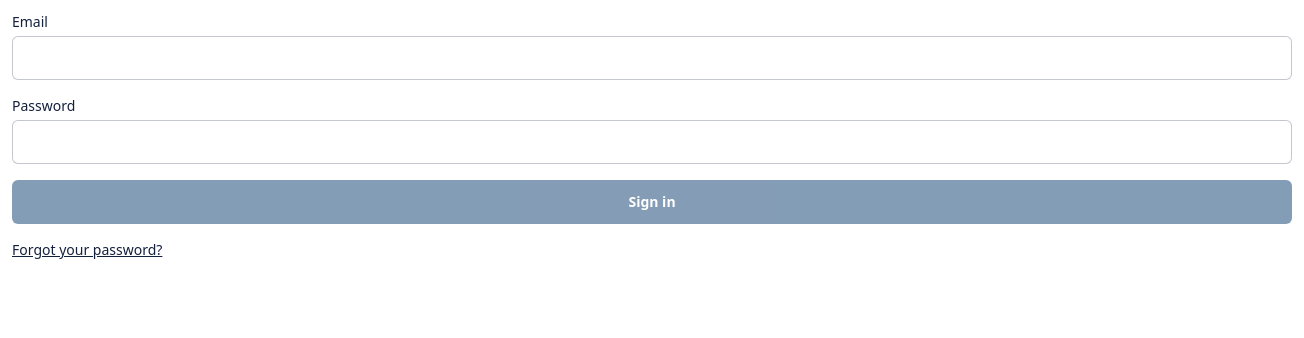
Test case: LoginForm › explains wrong credentials without saying which part was wrong
In the field labelled "Email": x=652, y=58 [12,36,1292,80], type "ada@example.test"
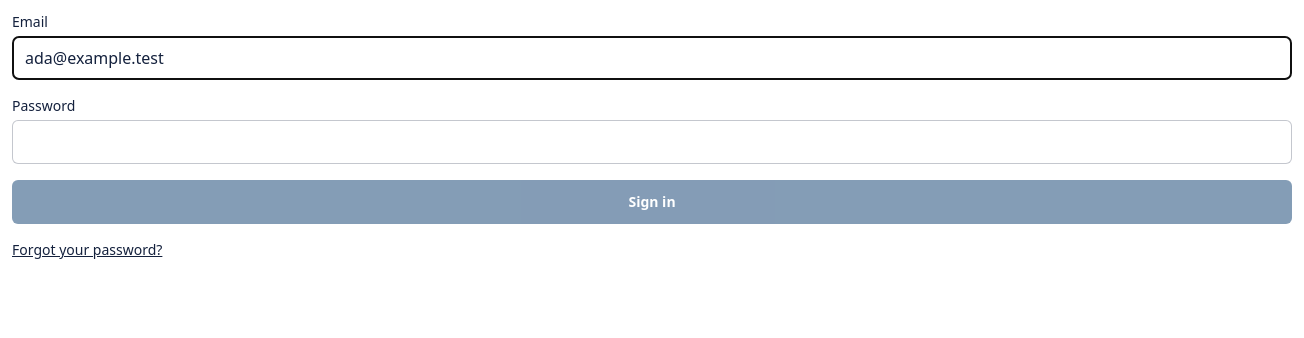
In the password field labelled "Password": x=652, y=142 [12,120,1292,164], type "wrong"
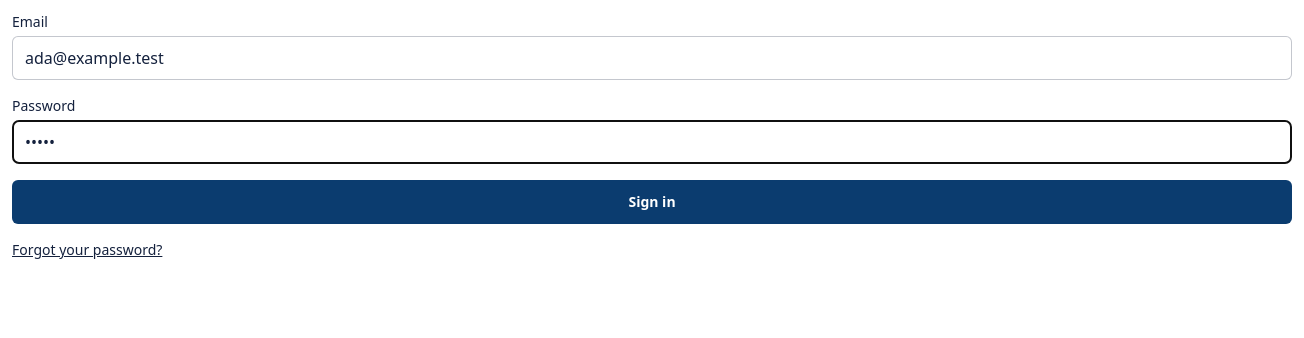
Click the button "Sign in": x=652, y=202 [12,180,1292,224]
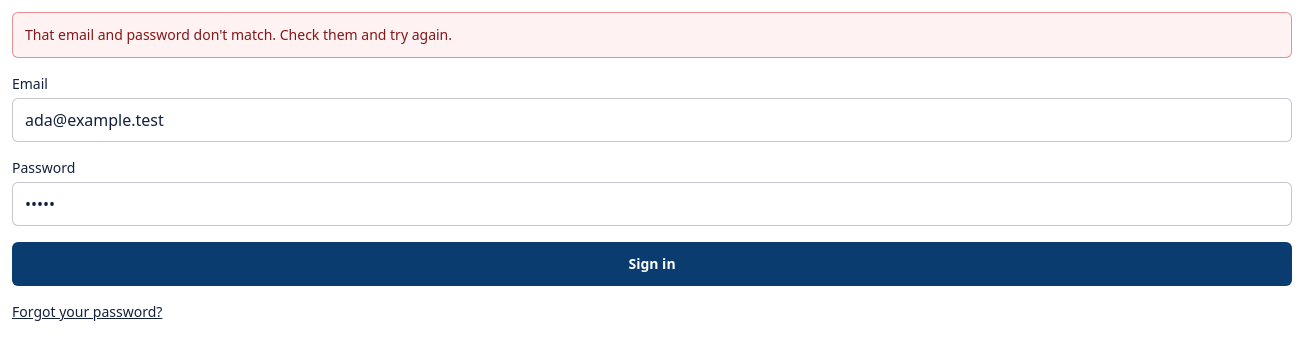
Result: the message shows "That email and password don't match" at [25,25,452,44]
